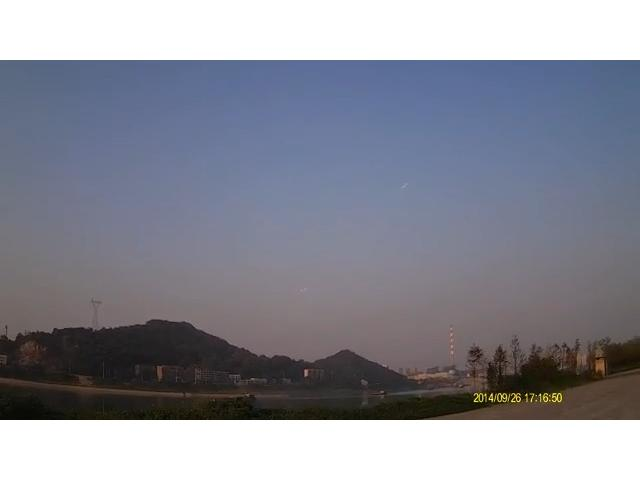Anti-Drone: (394, 177, 416, 195)
